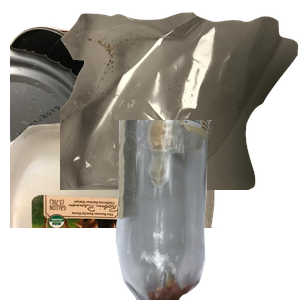glass: (113, 120, 300, 300)
metal: (10, 23, 193, 194)
plastic: (10, 120, 220, 300)
trash: (60, 10, 300, 190)
